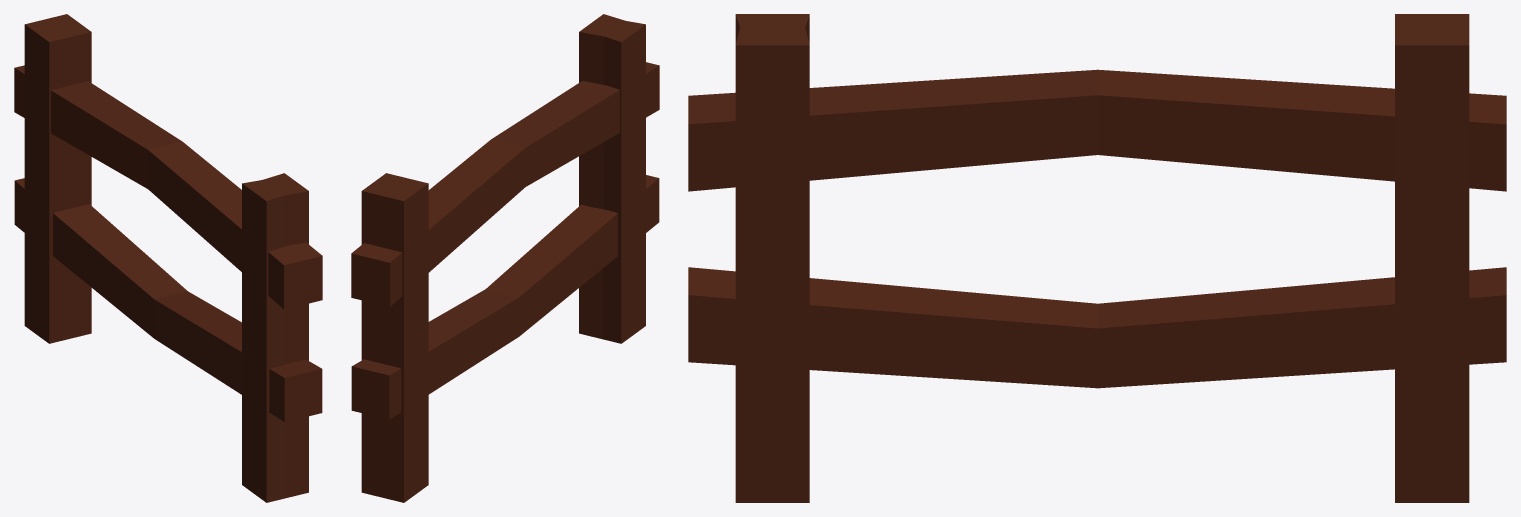
Rendered from Fence.gltf.
The picture shows the model from 3 angles, left to right: view 1: azimuth 30°, elevation 25°; view 2: azimuth 150°, elevation 25°; view 3: azimuth 270°, elevation 25°; orthographic projection. The views are drawn at different scales.
Visible parts, largest first — view 1: Cube.002, Cube.003, Cube, Cube.001; view 2: Cube.002, Cube.003, Cube.001, Cube; view 3: Cube.002, Cube.003, Cube, Cube.001.
Part boxes in pixels (x1,y1,x2,y2): Cube.002: (14, 65, 322, 309); Cube.003: (14, 178, 322, 422); Cube: (242, 173, 308, 502); Cube.001: (24, 14, 91, 343); Cube.002: (351, 62, 659, 306); Cube.003: (351, 175, 659, 419); Cube.001: (361, 173, 428, 502); Cube: (579, 14, 645, 343); Cube.002: (688, 69, 1506, 191); Cube.003: (688, 267, 1506, 388); Cube: (735, 14, 809, 502); Cube.001: (1395, 14, 1469, 502).
Bounding box in the file's own units: 0.6642 × 4.52 × 7.33.
